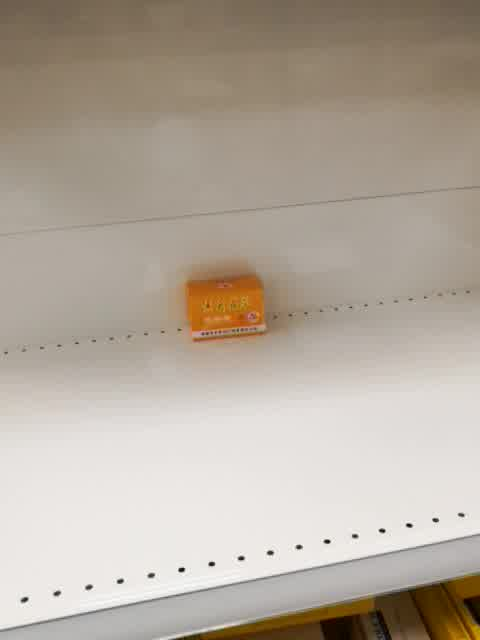jasminetea: (183, 274, 269, 344)
